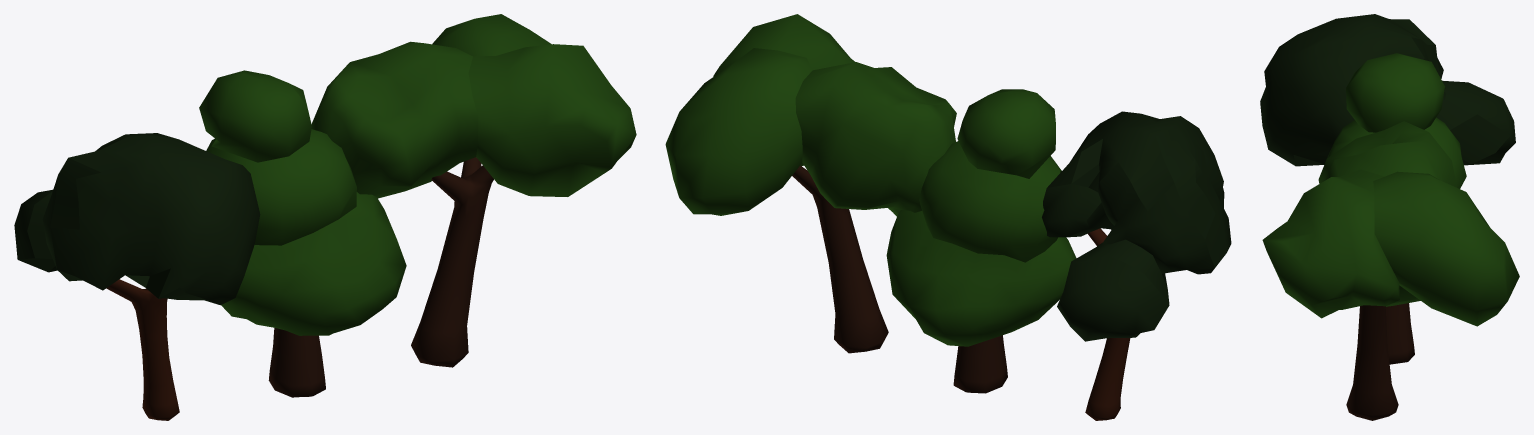
Rendered from Trees.fbx.
3 views of the same model, side by side, from view 1: azimuth 30°, elevation 25°; view 2: azimuth 150°, elevation 25°; view 3: azimuth 270°, elevation 25° (orthographic). The views are drawn at different scales.
Visible parts, largest first — view 1: Tree1, Tree2, Tree3; view 2: Tree1, Tree2, Tree3; view 3: Tree1, Tree3, Tree2.
Part boxes in pixels (x1,y1,x2,y2): Tree1: (311,14,636,367); Tree2: (199,70,406,397); Tree3: (14,133,260,420); Tree1: (665,14,956,353); Tree2: (886,89,1076,393); Tree3: (1042,111,1231,420); Tree1: (1262,121,1519,420); Tree3: (1260,14,1515,166); Tree2: (1327,53,1466,364).
Size of the model in its own units: 629 by 350 by 290.
